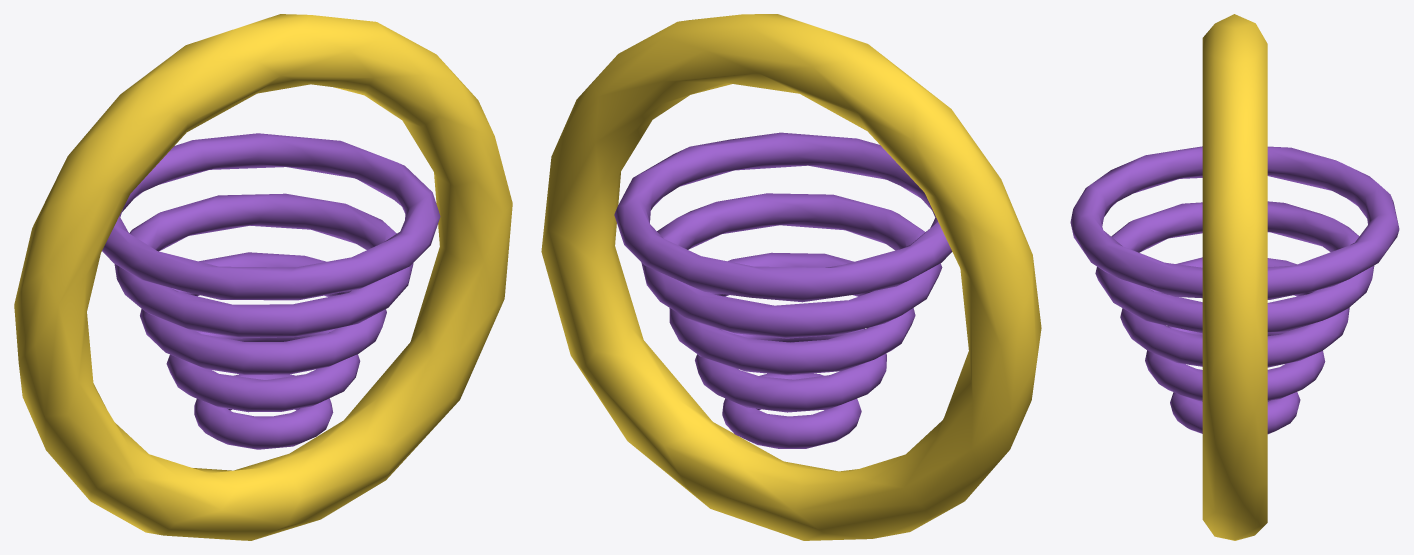
File: Pickup_whirlpool_LOD1.glb
3 renders of one model, left to right at view 1: azimuth 30°, elevation 25°; view 2: azimuth 150°, elevation 25°; view 3: azimuth 270°, elevation 25°, orthographic. The views are drawn at different scales.
Visible parts, largest first — view 1: Pickup ring.003, Whirlpool.004, Whirlpool.003, Whirlpool.002, Whirlpool.001, Whirlpool; view 2: Pickup ring.003, Whirlpool.004, Whirlpool.003, Whirlpool.002, Whirlpool.001, Whirlpool; view 3: Pickup ring.003, Whirlpool.004, Whirlpool.003, Whirlpool.002, Whirlpool.001, Whirlpool.
Boxes of the visible parts, x1,y1,x2,y2 form: Pickup ring.003: (14, 14, 512, 540); Whirlpool.004: (102, 133, 440, 300); Whirlpool.003: (114, 193, 413, 338); Whirlpool.002: (140, 252, 386, 374); Whirlpool.001: (166, 328, 360, 412); Whirlpool: (194, 374, 333, 449); Pickup ring.003: (541, 14, 1041, 540); Whirlpool.004: (614, 132, 952, 302); Whirlpool.003: (641, 193, 942, 338); Whirlpool.002: (669, 252, 915, 375); Whirlpool.001: (695, 328, 886, 412); Whirlpool: (722, 373, 861, 448); Pickup ring.003: (1202, 14, 1267, 540); Whirlpool.004: (1070, 146, 1399, 299); Whirlpool.003: (1095, 201, 1374, 333); Whirlpool.002: (1120, 257, 1349, 367); Whirlpool.001: (1145, 326, 1325, 401); Whirlpool: (1170, 392, 1300, 434).
Bounding box in the file's own units: 0.849 × 0.8505 × 0.5295.
